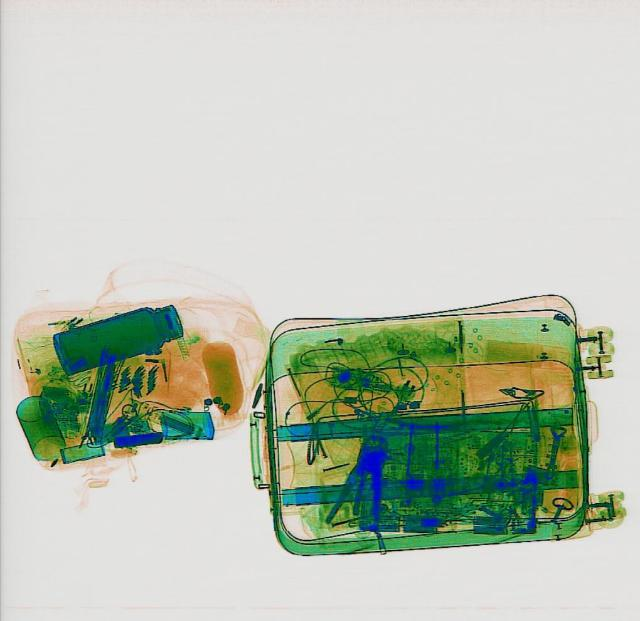Pliers: (323, 430, 403, 535)
